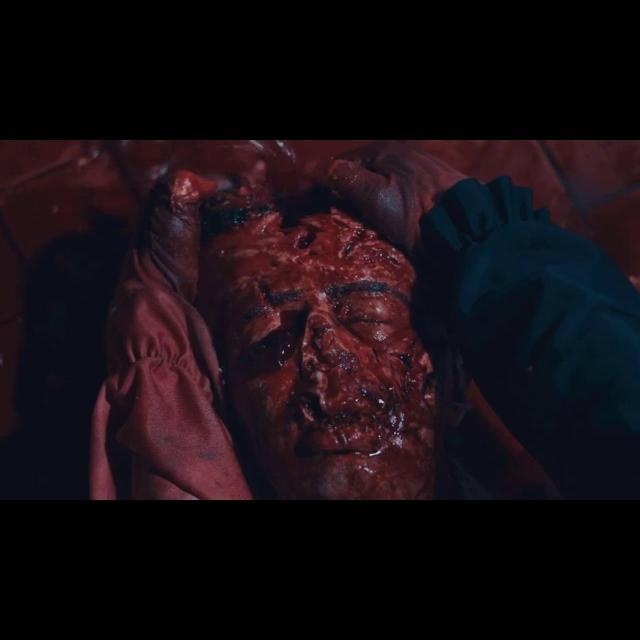blood: (90, 162, 436, 499), (311, 142, 463, 250)
